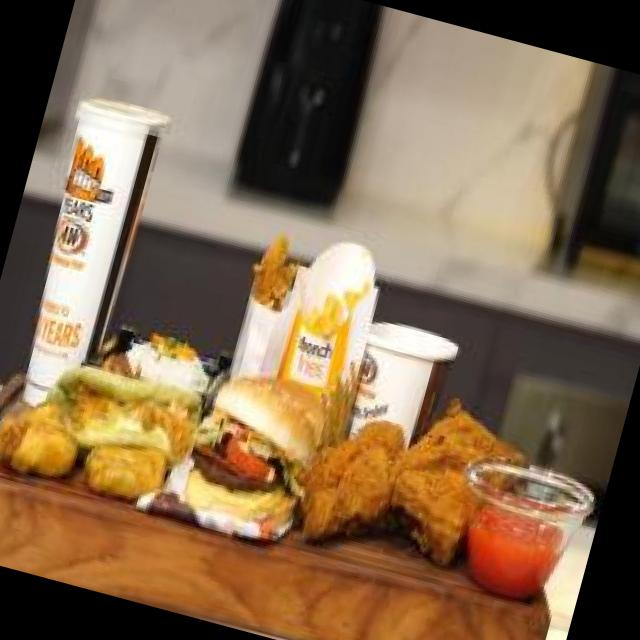AW cola: (0, 66, 206, 441)
black pepper rice bowl: (94, 308, 228, 404)
chicken waffle: (222, 244, 310, 367)
crispy corn: (324, 286, 481, 472)
french fries: (285, 244, 387, 372)
fried chicken: (278, 366, 538, 618)
mango chicken pocket: (28, 335, 216, 487)
mozza burger: (159, 357, 335, 568)
perkedel: (68, 401, 186, 513), (0, 386, 89, 495)
